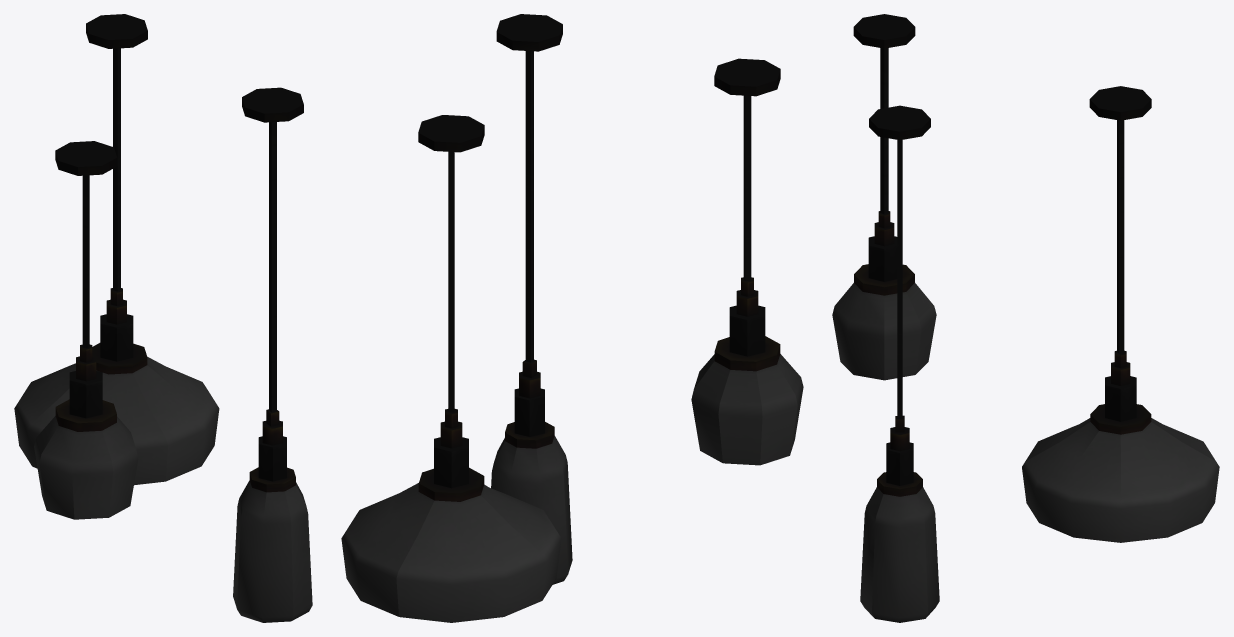
The picture shows the model from 3 angles, left to right: view 1: azimuth 30°, elevation 25°; view 2: azimuth 150°, elevation 25°; view 3: azimuth 270°, elevation 25°; orthographic projection. The views are drawn at different scales.
Parts seen in each view (by area): view 1: TinyLiving_DonTrippLightFixture_19; view 2: TinyLiving_DonTrippLightFixture_19; view 3: TinyLiving_DonTrippLightFixture_19.
Boxes of the visible parts, left/top/right/bottom form: TinyLiving_DonTrippLightFixture_19: left=14, top=14, right=312, bottom=622; TinyLiving_DonTrippLightFixture_19: left=341, top=14, right=803, bottom=622; TinyLiving_DonTrippLightFixture_19: left=832, top=14, right=1219, bottom=622.
Size of the model in its own units: 0.4709 by 0.7906 by 0.5672.
Materials: 1 (1 with a texture image).
